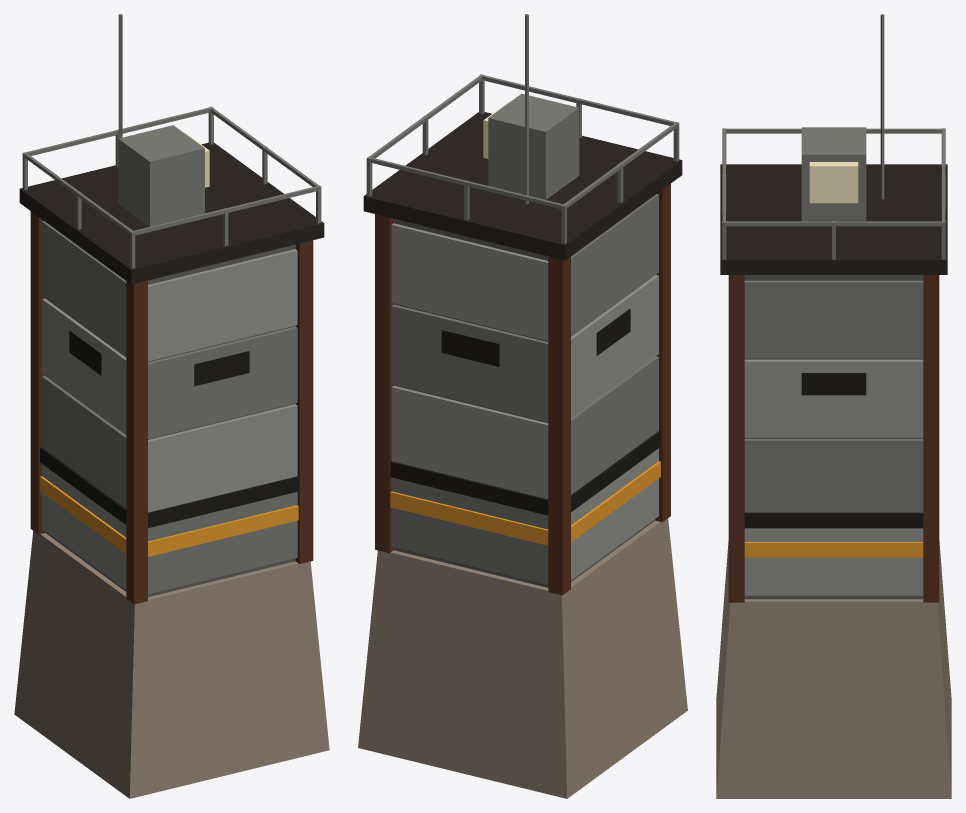
Rendered from fort_outpost_tower.glb.
The picture shows the model from 3 angles, left to right: view 1: azimuth 30°, elevation 25°; view 2: azimuth 150°, elevation 25°; view 3: azimuth 270°, elevation 25°; orthographic projection. The views are drawn at different scales.
Visible parts, largest first — view 1: fort_outpost_tower; view 2: fort_outpost_tower; view 3: fort_outpost_tower.
Part boxes in pixels (box(x1,y1,x2,y2)): fort_outpost_tower: box(14, 14, 329, 798); fort_outpost_tower: box(358, 14, 687, 798); fort_outpost_tower: box(716, 14, 951, 798).
Size of the model in its own units: 5.8 by 19.6 by 5.8.
